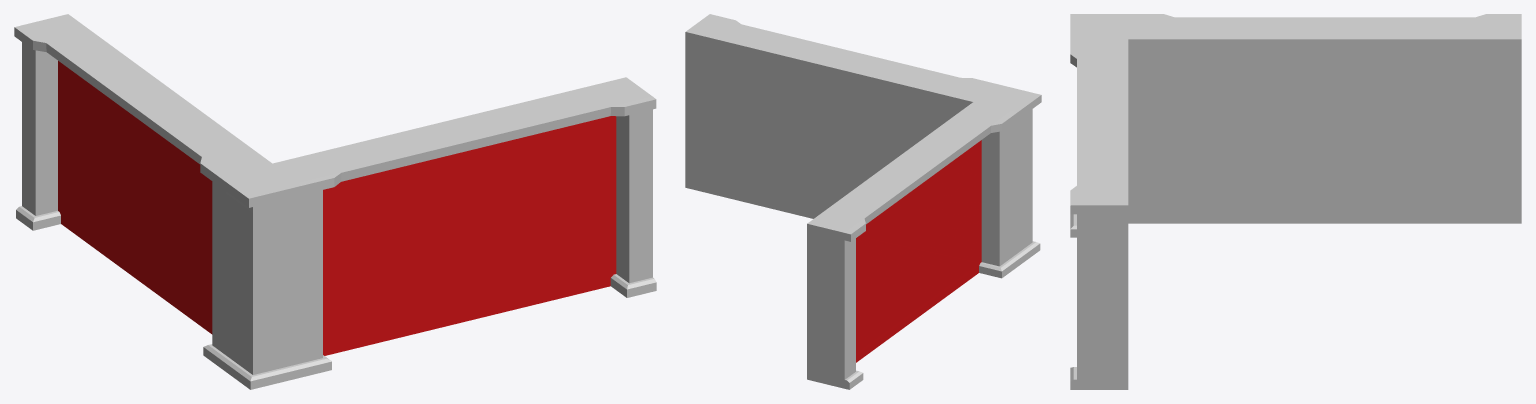
File: Wall corner out Hybrid.fbx
The picture shows the model from 3 angles, left to right: view 1: azimuth 30°, elevation 25°; view 2: azimuth 150°, elevation 25°; view 3: azimuth 270°, elevation 25°; orthographic projection. The views are drawn at different scales.
Parts seen in each view (by area): view 1: Wall Corner hybrid; view 2: Wall Corner hybrid; view 3: Wall Corner hybrid.
Part boxes in pixels (left/top/right/bottom): Wall Corner hybrid: left=14, top=14, right=656, bottom=389; Wall Corner hybrid: left=685, top=14, right=1041, bottom=389; Wall Corner hybrid: left=1070, top=14, right=1521, bottom=389.
Bounding box in the file's own units: 635 × 286 × 633.
